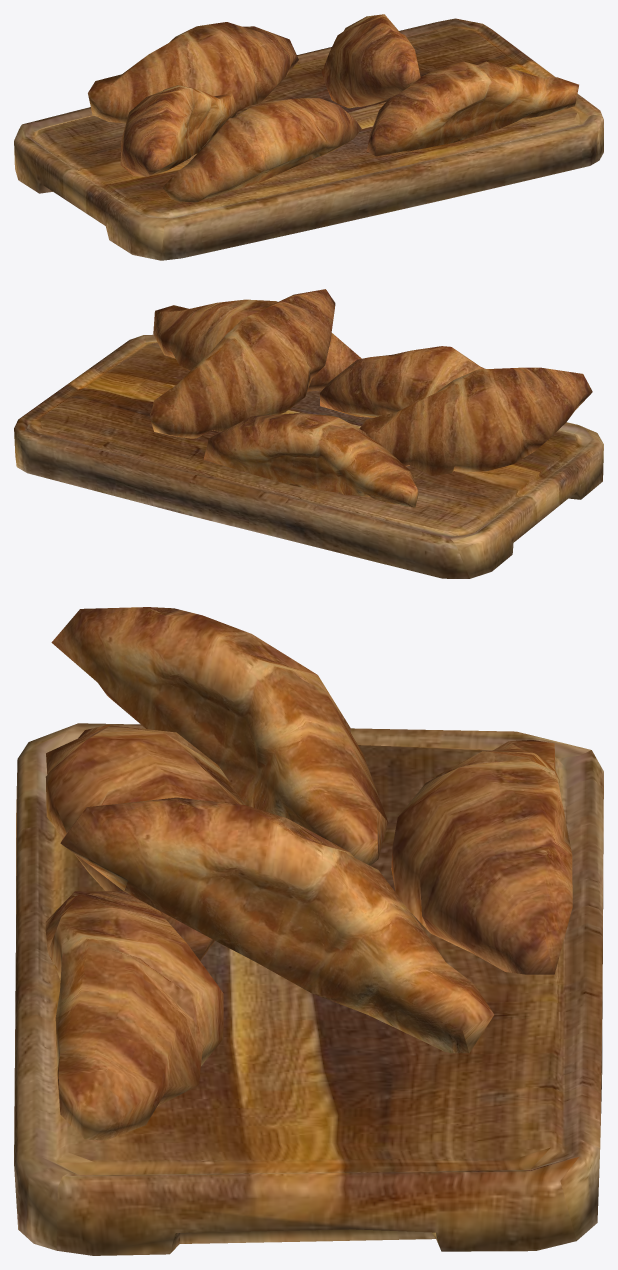
Rendered from CroissantBoard.glb.
3 views of the same model, one above another, from view 1: azimuth 30°, elevation 25°; view 2: azimuth 150°, elevation 25°; view 3: azimuth 270°, elevation 25° (orthographic). The views are drawn at different scales.
Parts seen in each view (by area): view 1: CroissantBoard; view 2: CroissantBoard; view 3: CroissantBoard.
Boxes of the visible parts, x1,y1,x2,y2 form: CroissantBoard: [14, 14, 603, 260]; CroissantBoard: [14, 289, 603, 578]; CroissantBoard: [14, 607, 603, 1255].
Bounding box in the file's own units: 0.4497 × 0.1285 × 0.2466.
2 materials, 2 textured.
